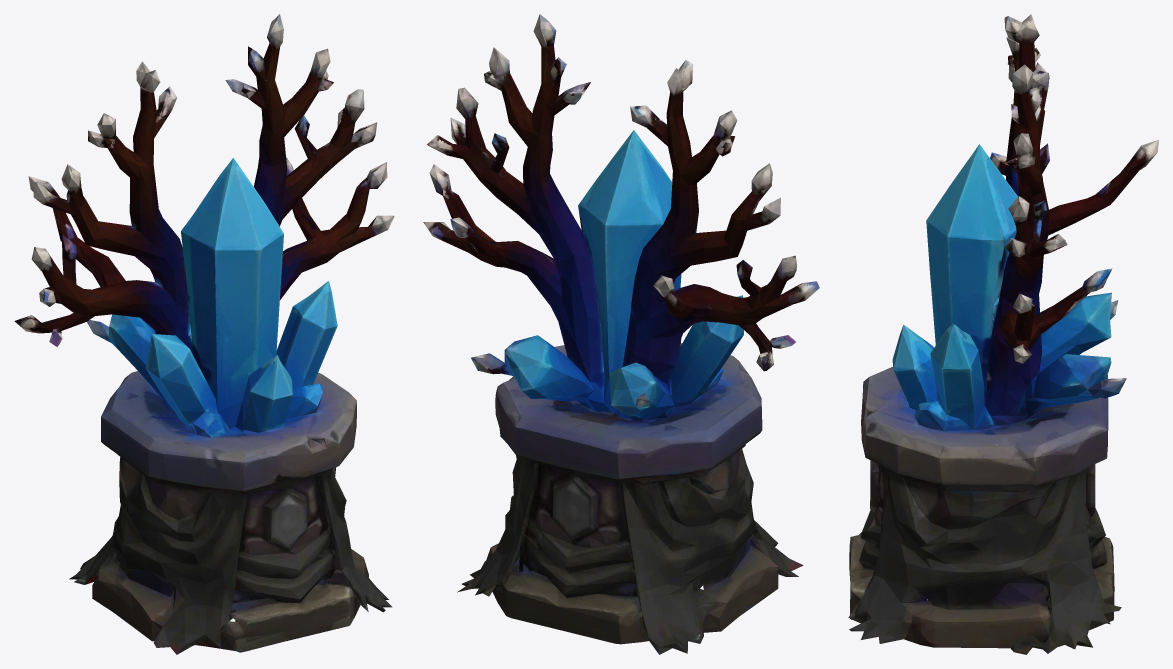
File: magic_crystal_pedestal.glb
The picture shows the model from 3 angles, left to right: view 1: azimuth 30°, elevation 25°; view 2: azimuth 150°, elevation 25°; view 3: azimuth 270°, elevation 25°; orthographic projection. The views are drawn at different scales.
Size of the model in its own units: 1.38 by 1.98 by 0.9875.
1 material, 1 textured.
